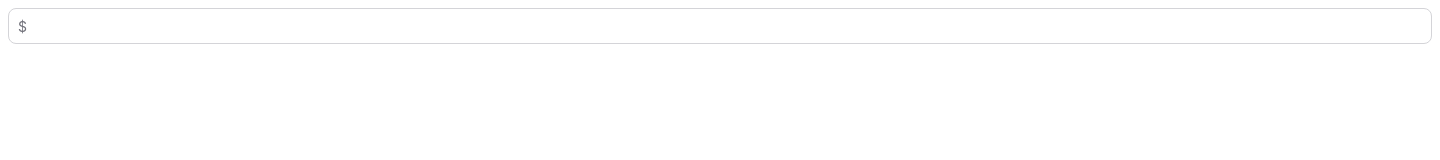
Test case: NumberInput › cleans pasted text
Click the field named "Amount" at [720, 26], box [8,8,1432,44]
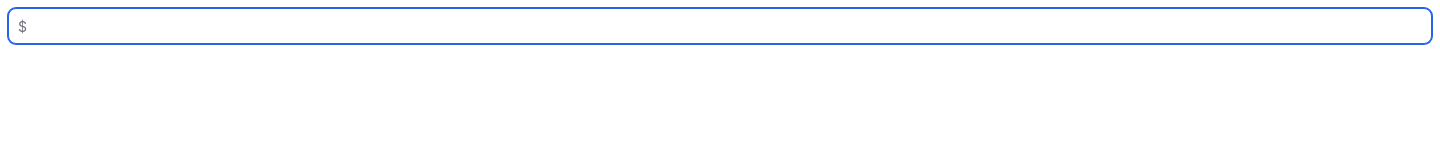
Type keys "$1,234.567 USD"
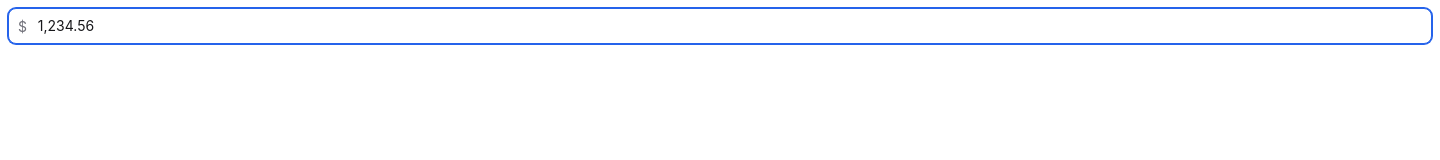
Expected: the field named "Amount" holds "1,234.56", [8,8,1432,44]
